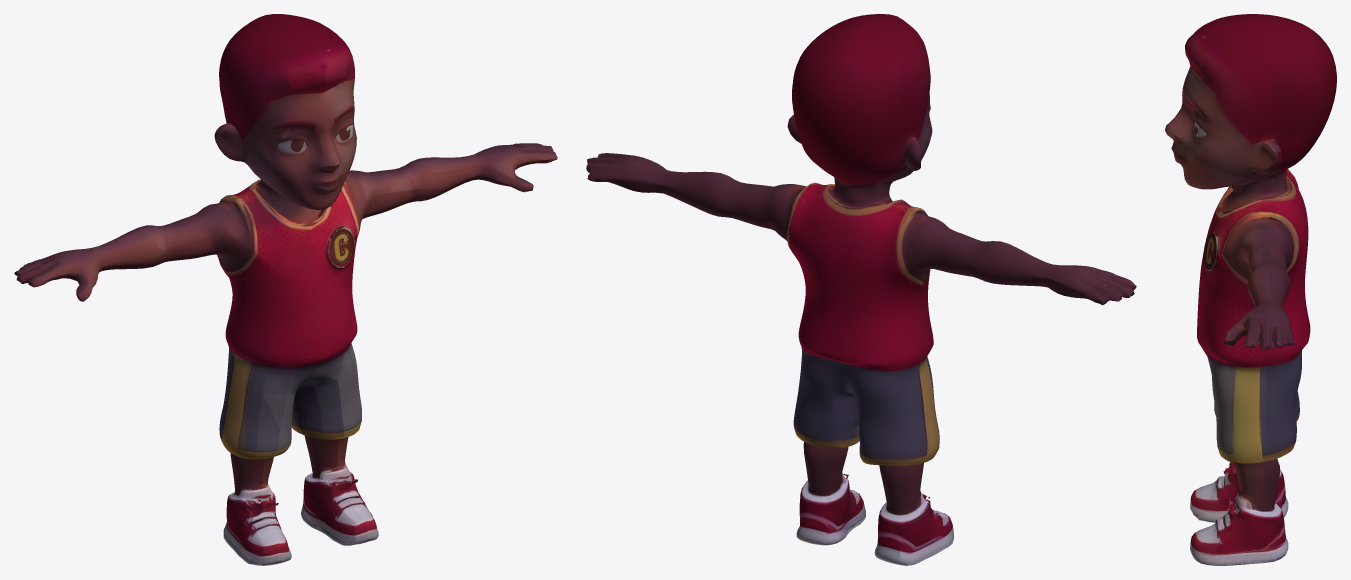
The model's file is Meshy_AI_Crimson_Captain_0528171223_image-to-3d-texture.obj.
3 renders of one model, left to right at view 1: azimuth 30°, elevation 25°; view 2: azimuth 150°, elevation 25°; view 3: azimuth 270°, elevation 25°, orthographic.
Visible parts, largest first — view 1: Meshy_AI_Crimson_Captain_0528171223_image-to-3d-texture; view 2: Meshy_AI_Crimson_Captain_0528171223_image-to-3d-texture; view 3: Meshy_AI_Crimson_Captain_0528171223_image-to-3d-texture.
Boxes of the visible parts, x1,y1,x2,y2 form: Meshy_AI_Crimson_Captain_0528171223_image-to-3d-texture: (14,14,557,565); Meshy_AI_Crimson_Captain_0528171223_image-to-3d-texture: (586,14,1136,565); Meshy_AI_Crimson_Captain_0528171223_image-to-3d-texture: (1165,14,1336,565).
Size of the model in its own units: 1.91 by 1.74 by 0.526.
Materials: 1 (1 with a texture image).
